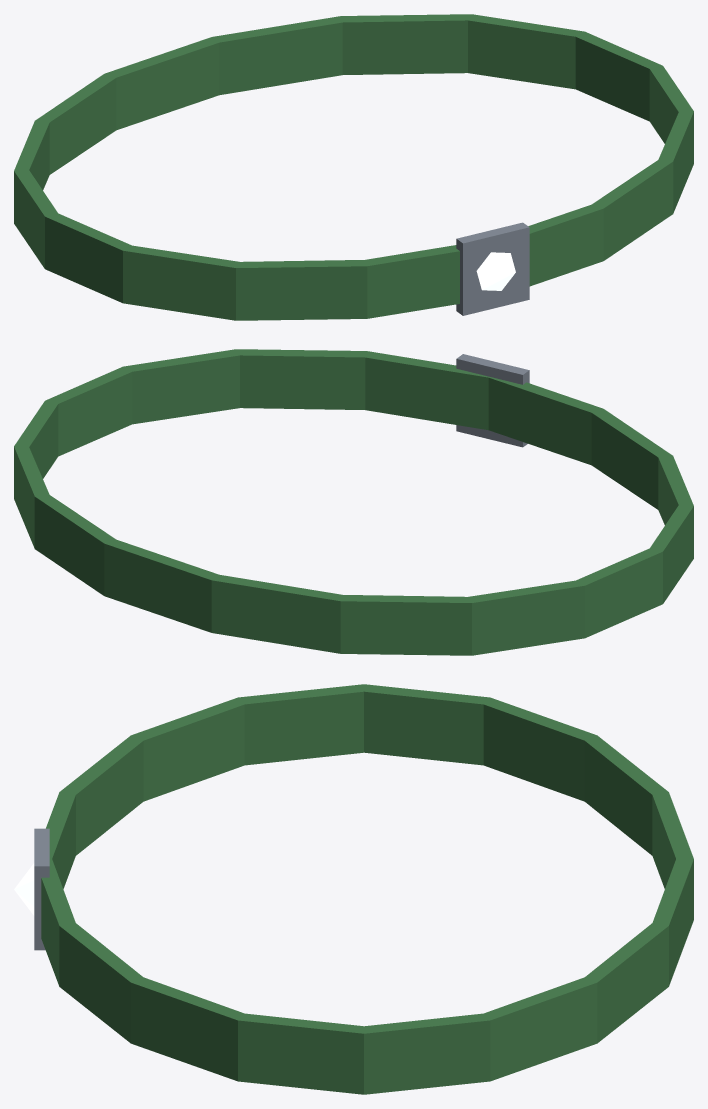
File: armor_knight_head_uncommon_orc.glb
3 views of the same model, one above another, from view 1: azimuth 30°, elevation 25°; view 2: azimuth 150°, elevation 25°; view 3: azimuth 270°, elevation 25° (orthographic). The views are drawn at different scales.
Visible parts, largest first — view 1: armor_knight_head_uncommon_orc__head; view 2: armor_knight_head_uncommon_orc__head; view 3: armor_knight_head_uncommon_orc__head.
Part boxes in pixels (bbox=[...]): armor_knight_head_uncommon_orc__head: bbox=[14, 14, 693, 320]; armor_knight_head_uncommon_orc__head: bbox=[14, 349, 693, 655]; armor_knight_head_uncommon_orc__head: bbox=[14, 684, 693, 1094].
Bounding box in the file's own units: 65.1 × 7.3 × 53.52.
